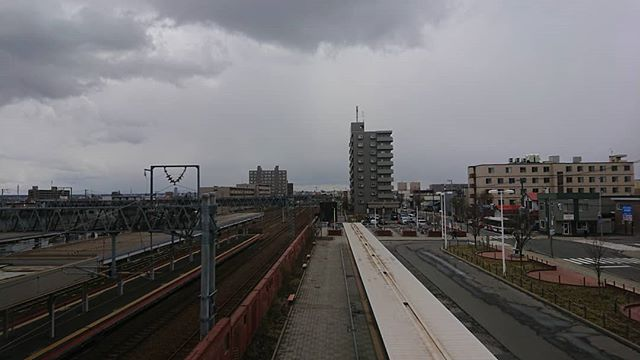building: (466, 153, 640, 216), (347, 120, 398, 216), (248, 161, 291, 196)
sky: (14, 1, 640, 182)
train track: (27, 202, 314, 360)
